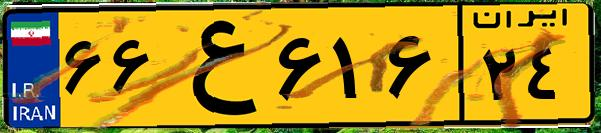1: (330, 28, 385, 110)
2: (475, 38, 525, 113)
4: (525, 38, 570, 115)
6: (270, 28, 330, 110), (385, 28, 445, 110), (57, 26, 110, 100), (110, 28, 158, 98)
ع: (158, 12, 270, 120)
